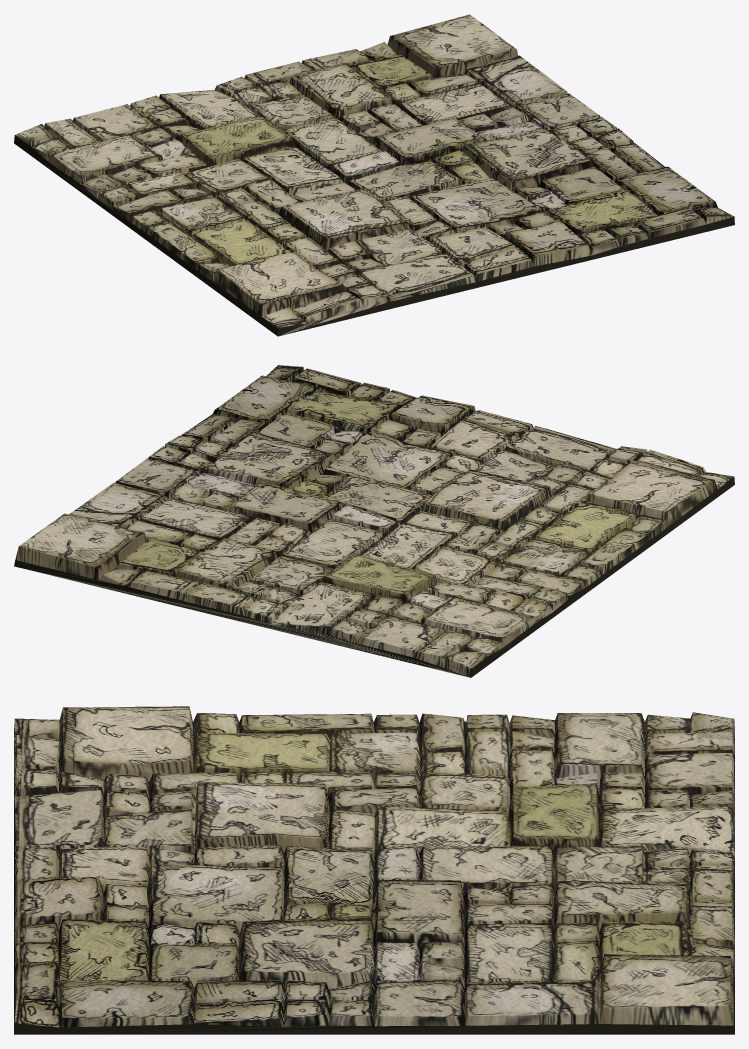
File: stone_floor.glb
The picture shows the model from 3 angles, top to bottom: view 1: azimuth 30°, elevation 25°; view 2: azimuth 150°, elevation 25°; view 3: azimuth 270°, elevation 25°; orthographic projection. The views are drawn at different scales.
Parts seen in each view (by area): view 1: Stone_Floor; view 2: Stone_Floor; view 3: Stone_Floor.
Part boxes in pixels (x1,y1,x2,y2): Stone_Floor: [14, 14, 734, 336]; Stone_Floor: [14, 365, 734, 677]; Stone_Floor: [14, 706, 734, 1034].
Bounding box in the file's own units: 2 × 0.0815 × 2.
Materials: 1 (1 with a texture image).
